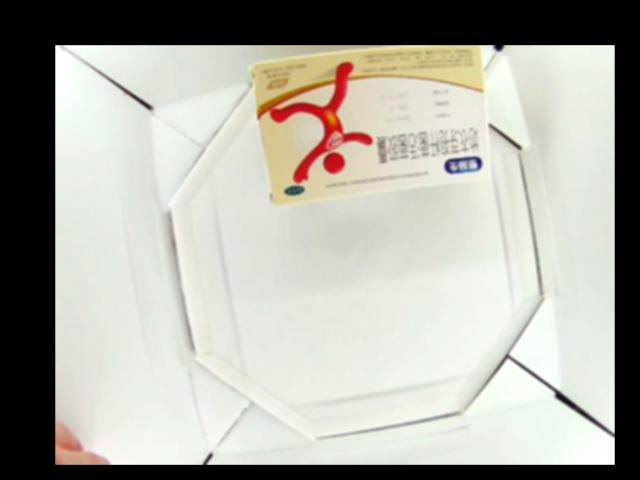Medicine: (254, 46, 491, 206)
